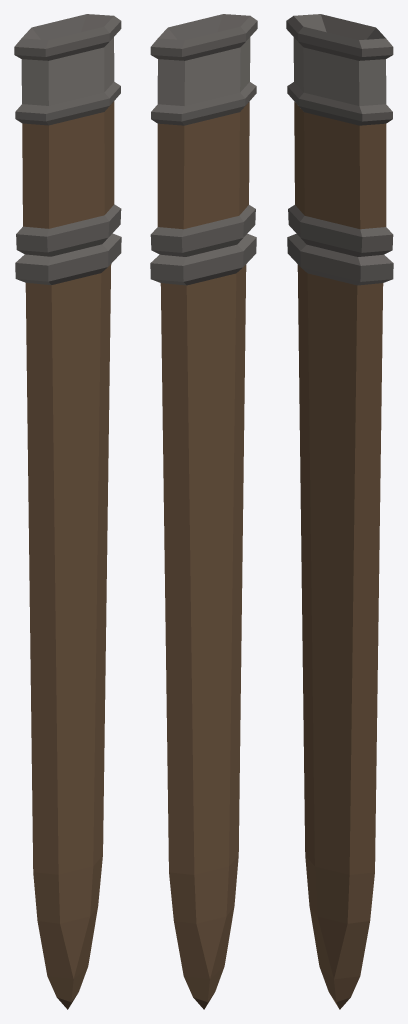
The model's file is SM_pwe_slavic_sword_scabbard_03.fbx.
3 renders of one model, left to right at view 1: azimuth 30°, elevation 25°; view 2: azimuth 210°, elevation 25°; view 3: azimuth 330°, elevation 25°, orthographic.
Parts seen in each view (by area): view 1: SM_pwe_slavic_sword_scabbard_03; view 2: SM_pwe_slavic_sword_scabbard_03; view 3: SM_pwe_slavic_sword_scabbard_03.
Part boxes in pixels (left/top/right/bottom): SM_pwe_slavic_sword_scabbard_03: left=14, top=14, right=121, bottom=1009; SM_pwe_slavic_sword_scabbard_03: left=150, top=14, right=257, bottom=1009; SM_pwe_slavic_sword_scabbard_03: left=286, top=14, right=393, bottom=1009.
Size of the model in its own units: 8.01 by 70.12 by 2.58.
